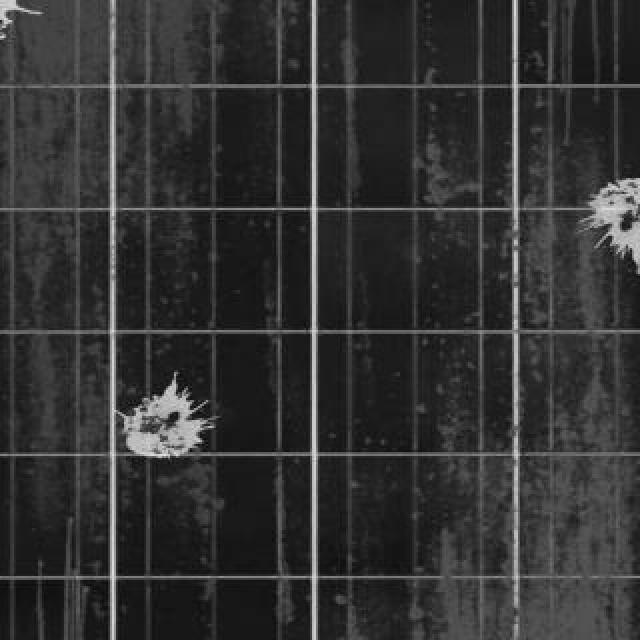Physical-damage: (112, 354, 222, 472), (574, 142, 639, 285), (0, 0, 53, 54)
